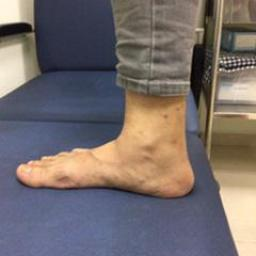Medial View -Right Foot-: (10, 98, 200, 205)
